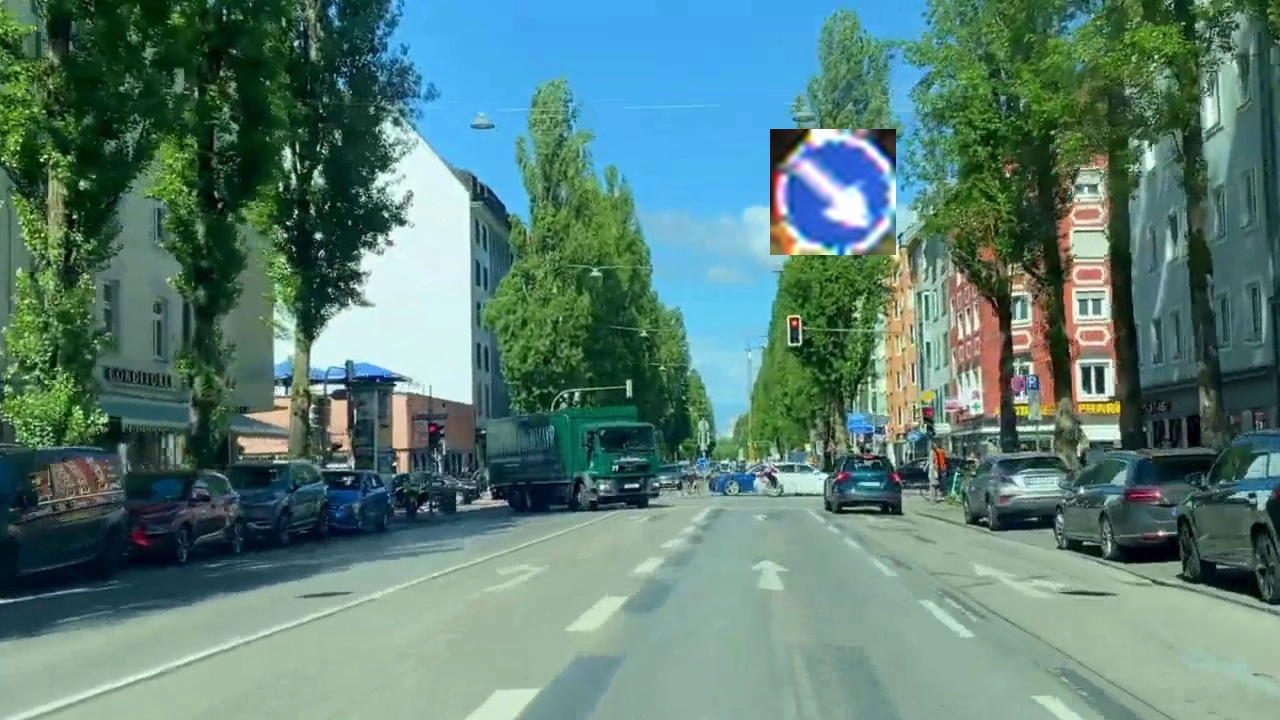Keep right: (770, 129, 896, 255)
